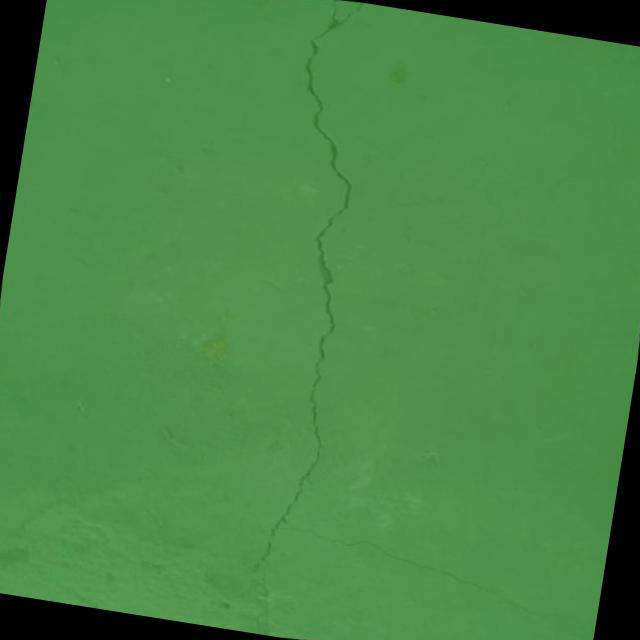crack: (212, 52, 395, 640), (280, 510, 593, 638), (302, 0, 366, 63), (226, 606, 263, 630), (567, 629, 594, 640)
